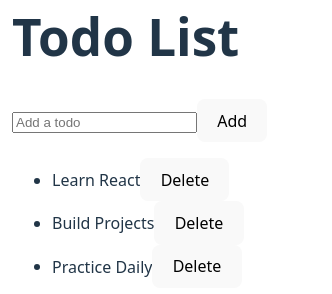
Test: TodoList Component › deletes a todo when delete button clicked
The width and height of the screenshot is (332, 294).
# Click first delete button (should remove "Learn React")
Click the button with test id "delete-btn" next to "Learn React". click: [185, 180]
box: [140,158,230,202]
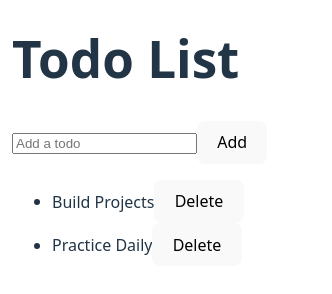
Expected: the text "Learn React" is gone
